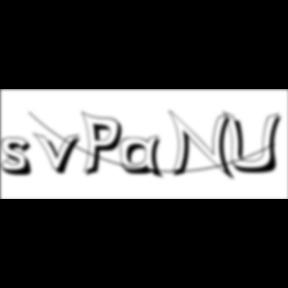N: (168, 109, 238, 183)
P: (82, 110, 128, 180)
U: (222, 110, 288, 176)
a: (121, 135, 169, 182)
s: (1, 137, 40, 179)
v: (33, 131, 87, 177)
